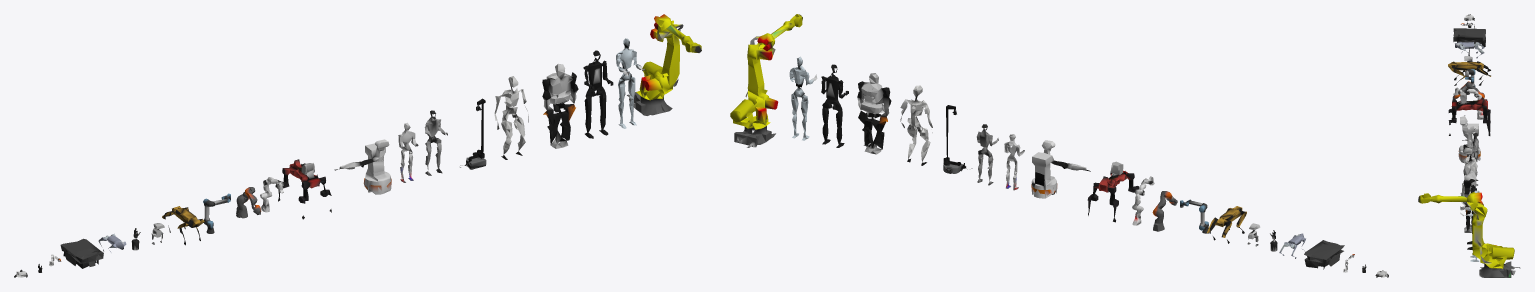
The model's file is lineup.l2.glb.
3 renders of one model, left to right at view 1: azimuth 30°, elevation 25°; view 2: azimuth 150°, elevation 25°; view 3: azimuth 270°, elevation 25°, orthographic. The views are drawn at different scales.
Visible parts, largest first — view 1: lineup__l2; view 2: lineup__l2; view 3: lineup__l2.
Part boxes in pixels (box(x1,y1,x2,y2)): lineup__l2: box(14, 14, 701, 277); lineup__l2: box(730, 14, 1388, 277); lineup__l2: box(1418, 14, 1520, 277).
Bounding box in the file's own units: 14.93 × 2.11 × 2.45.
